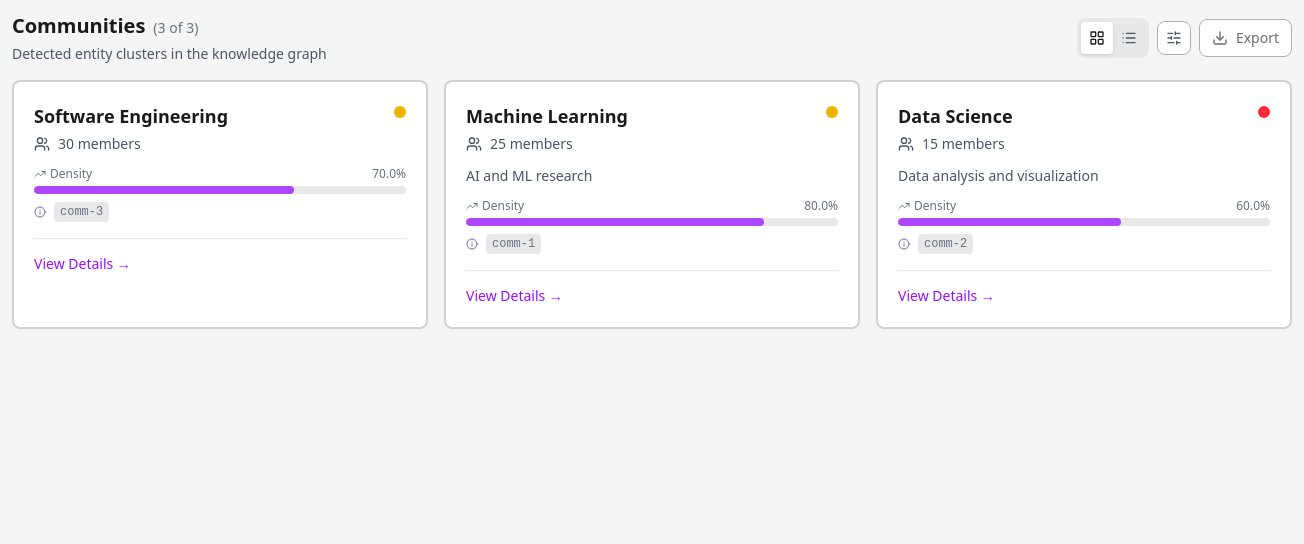
Test case: CommunitiesList › Filtering and Sorting › should show no results message when filters exclude all
Click the button with test id "toggle-filters": (1174, 38) [1157,21,1191,55]
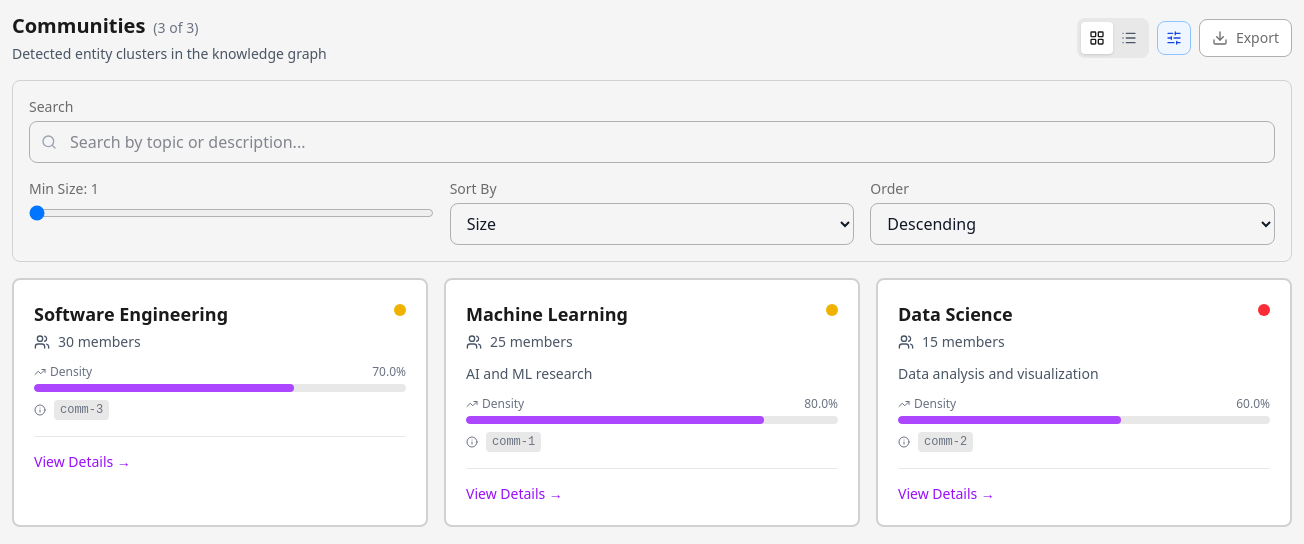
In the field with test id "search-input": (652, 142) [29,121,1275,163], type "NonExistent"
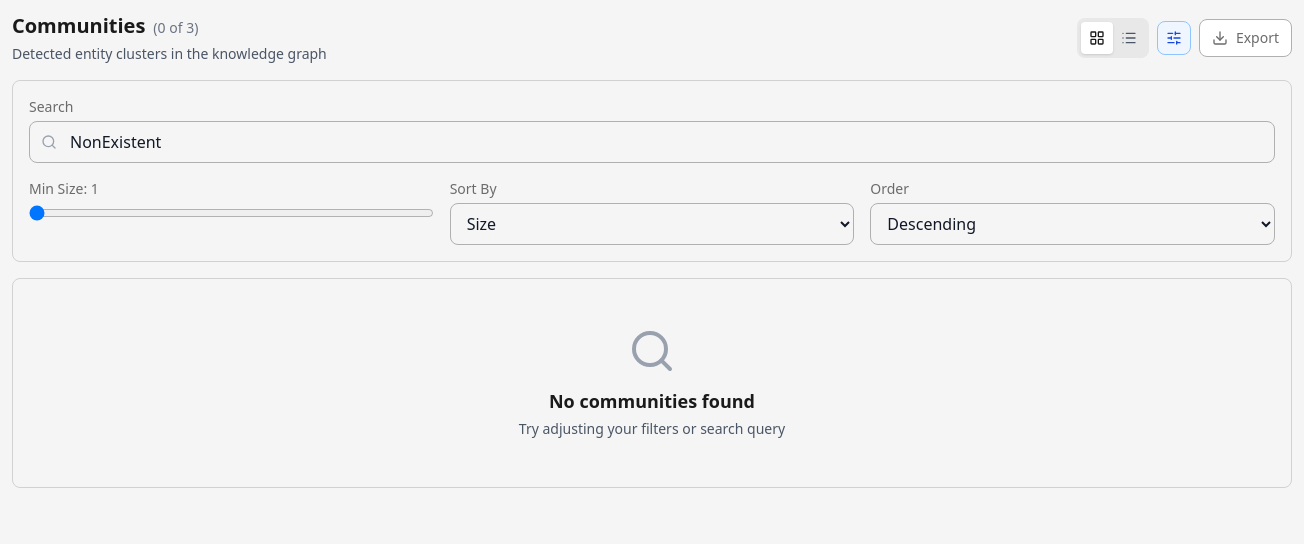
Expected: the heading "No communities found" is shown, [549,389,755,413]
Expected: the text "Try adjusting your filters or search query" is shown, [519,419,785,438]
